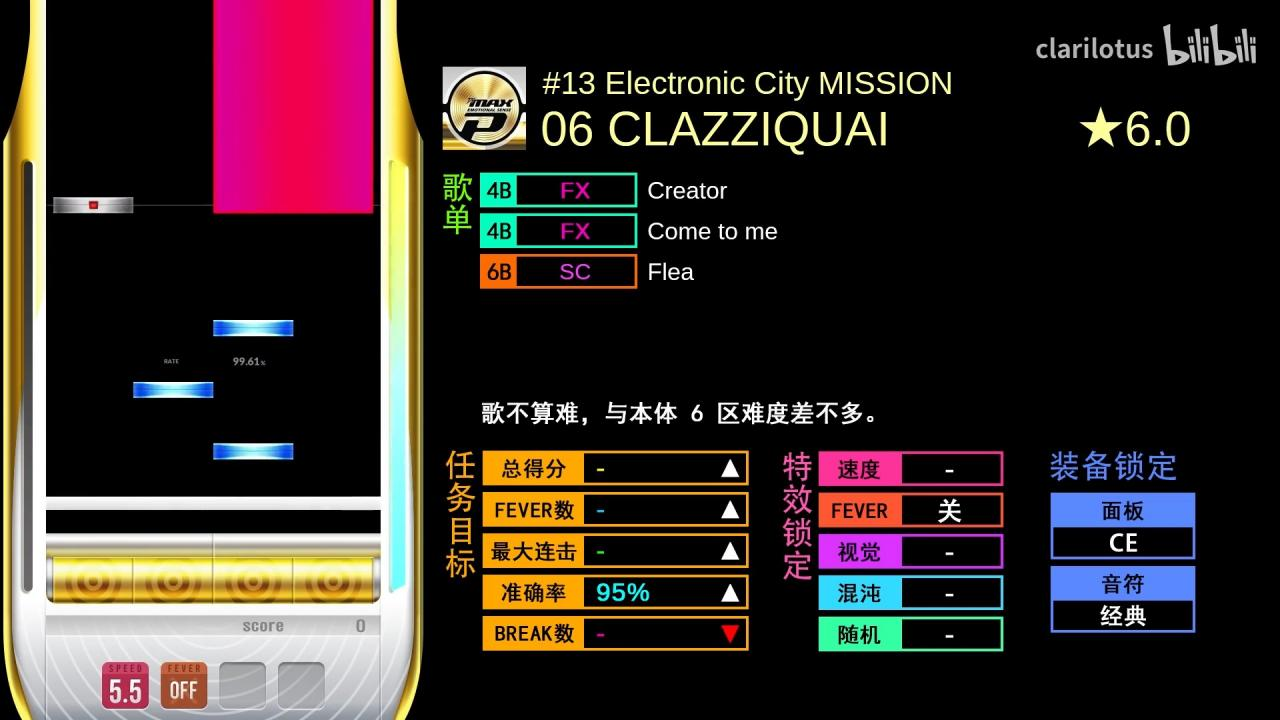note: (133, 381, 213, 399), (213, 443, 294, 460), (54, 197, 134, 213), (214, 320, 294, 336)
xstart: (214, 192, 374, 213)
